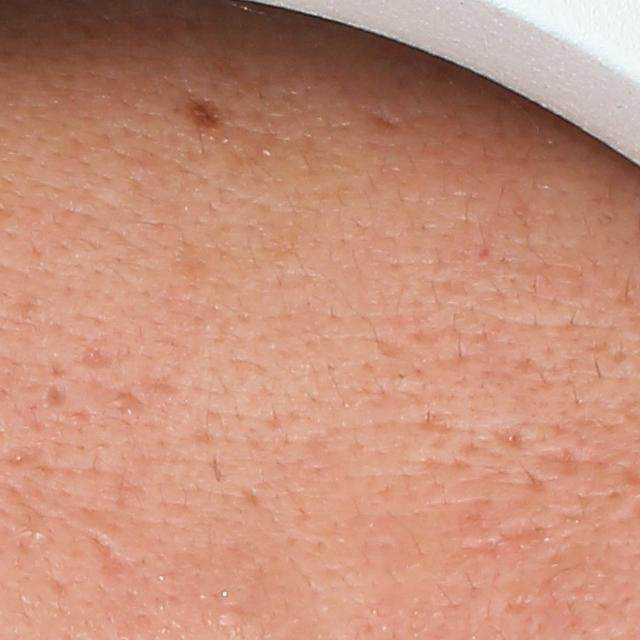atrophic_scar: (87, 531, 148, 596), (490, 518, 558, 550), (73, 331, 117, 370), (537, 441, 584, 477), (2, 444, 53, 472), (494, 417, 528, 456), (138, 374, 181, 404), (40, 381, 70, 411)
nevus: (184, 91, 227, 131)
